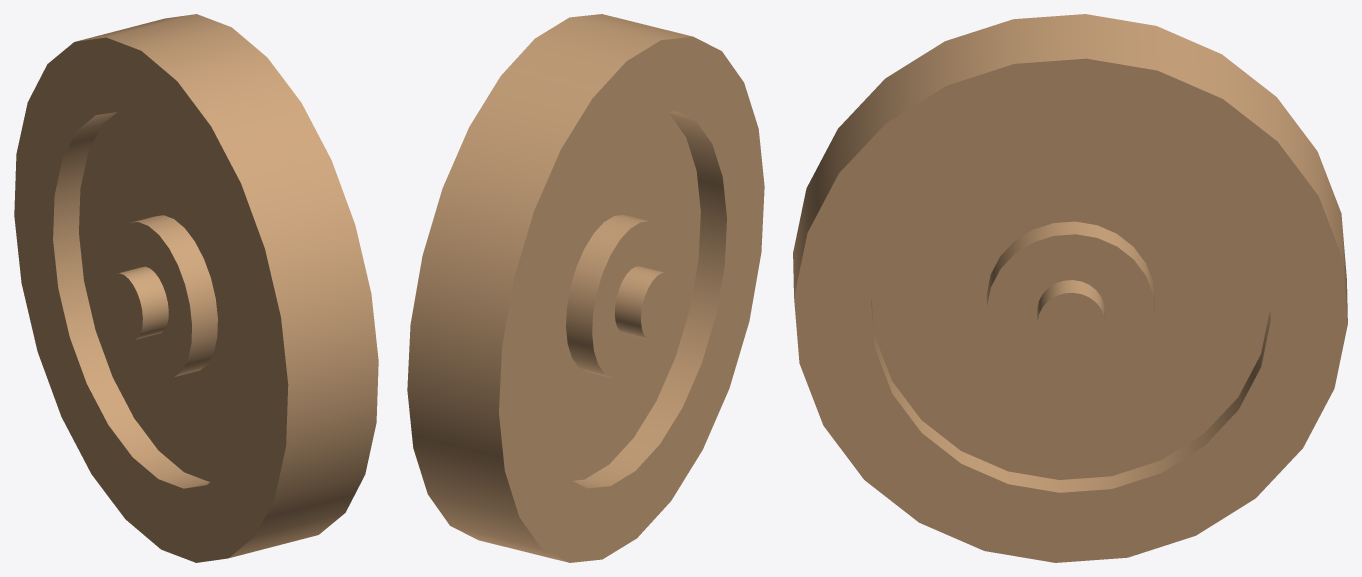
Rendered from original-8.obj.
3 views of the same model, side by side, from view 1: azimuth 30°, elevation 25°; view 2: azimuth 150°, elevation 25°; view 3: azimuth 270°, elevation 25° (orthographic). The views are drawn at different scales.
Parts seen in each view (by area): view 1: mesh1/mesh1-geometry#mesh1-geometry; view 2: mesh1/mesh1-geometry#mesh1-geometry; view 3: mesh1/mesh1-geometry#mesh1-geometry.
Part boxes in pixels (x1,y1,x2,y2): mesh1/mesh1-geometry#mesh1-geometry: (14, 14, 378, 562); mesh1/mesh1-geometry#mesh1-geometry: (407, 14, 764, 562); mesh1/mesh1-geometry#mesh1-geometry: (793, 14, 1347, 562).
Size of the model in its own units: 0.0779 by 0.2537 by 0.2537.
